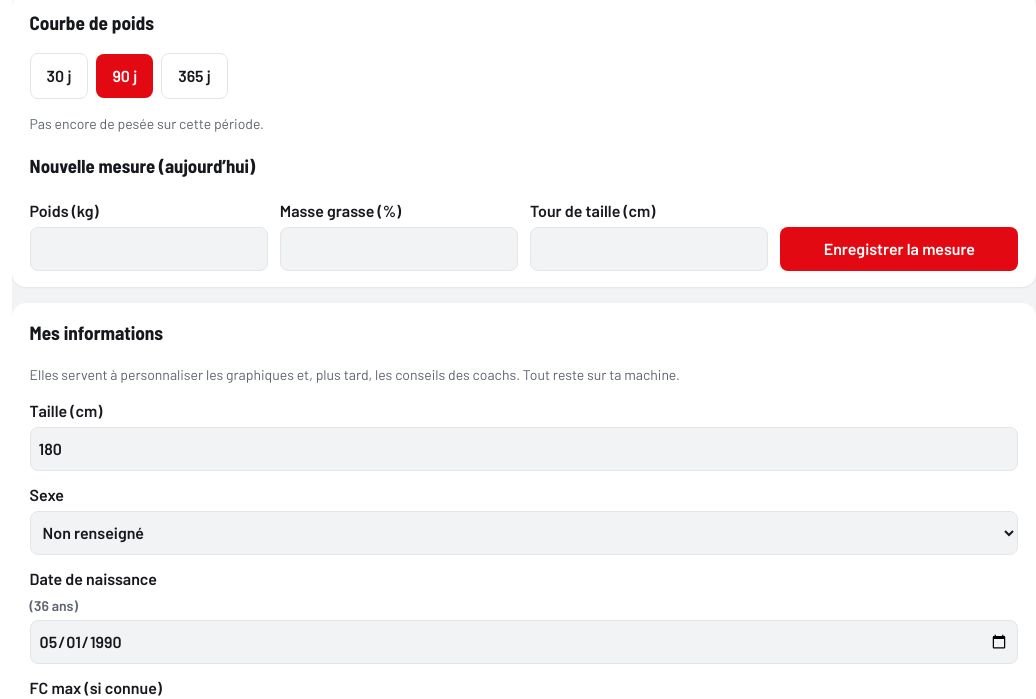
Test: ProfilePage › saves a valid profile
This screenshot has width=1036, height=699.
Replace the text in the field labelled "Taille (cm)" with "181" at (524, 449), box [30,427,1018,471]
(page scrolled)
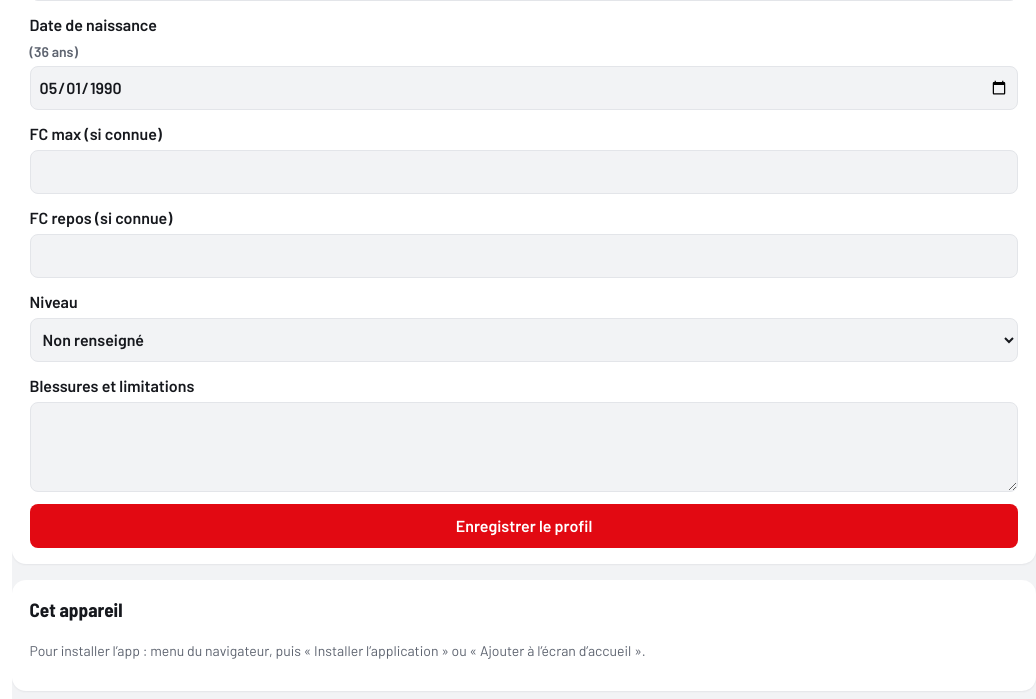
Click the button "Enregistrer le profil" at (524, 526), box [30,504,1018,548]
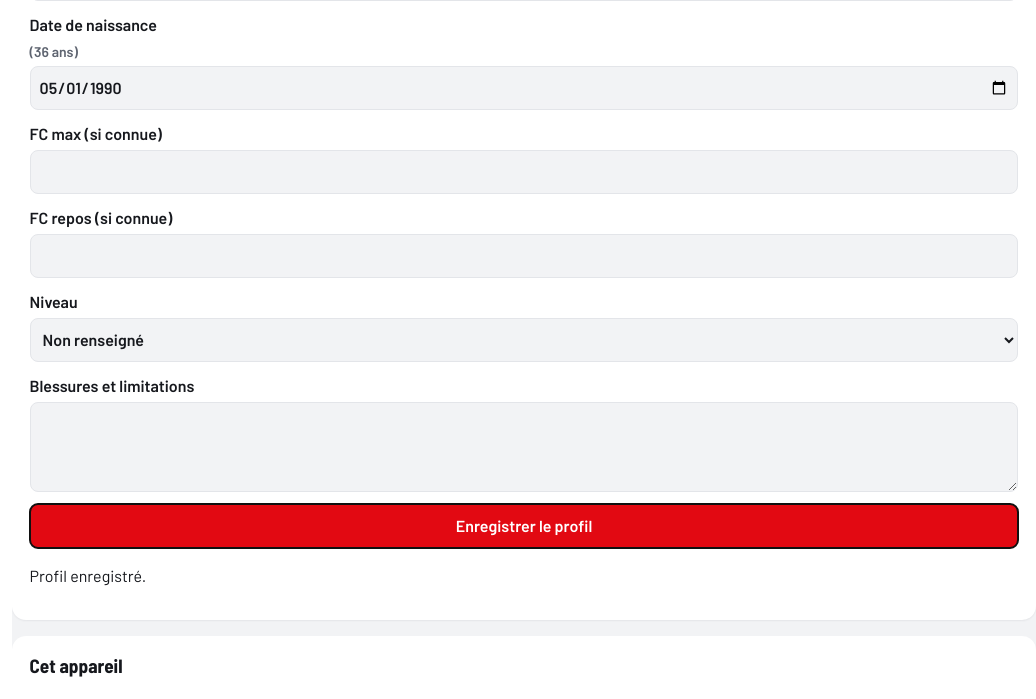
Expected: the text "Profil enregistré." is shown, [30,566,146,585]
